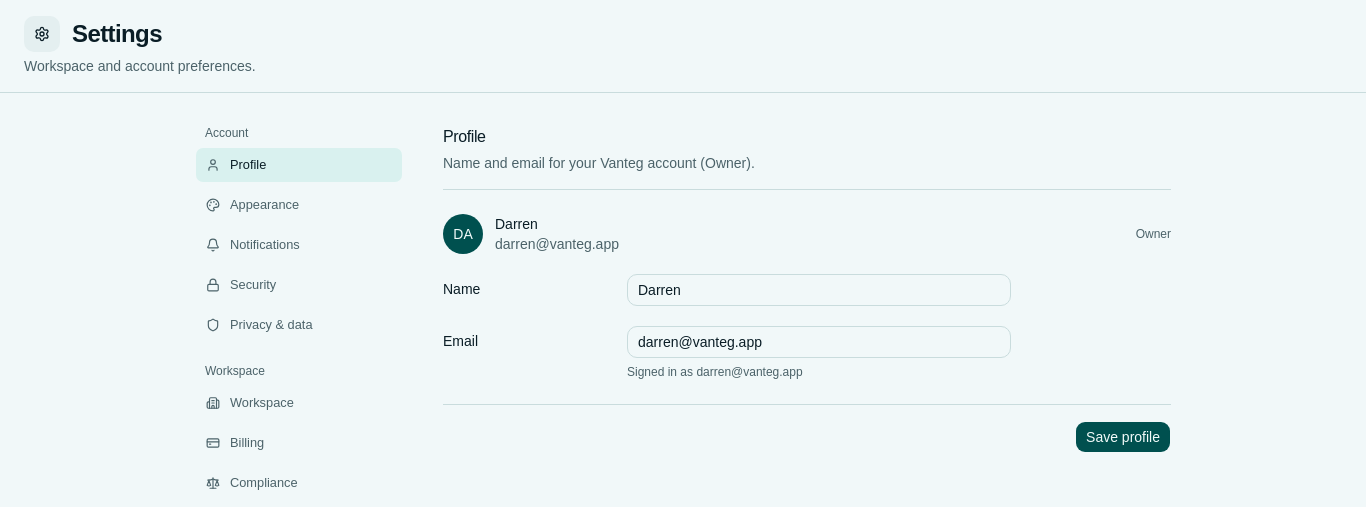
Test: SettingsPage › validates profile and saves with a success toast
The image size is (1366, 507).
Clear the field labelled "Name" at x=819, y=290, box [627, 274, 1011, 306]
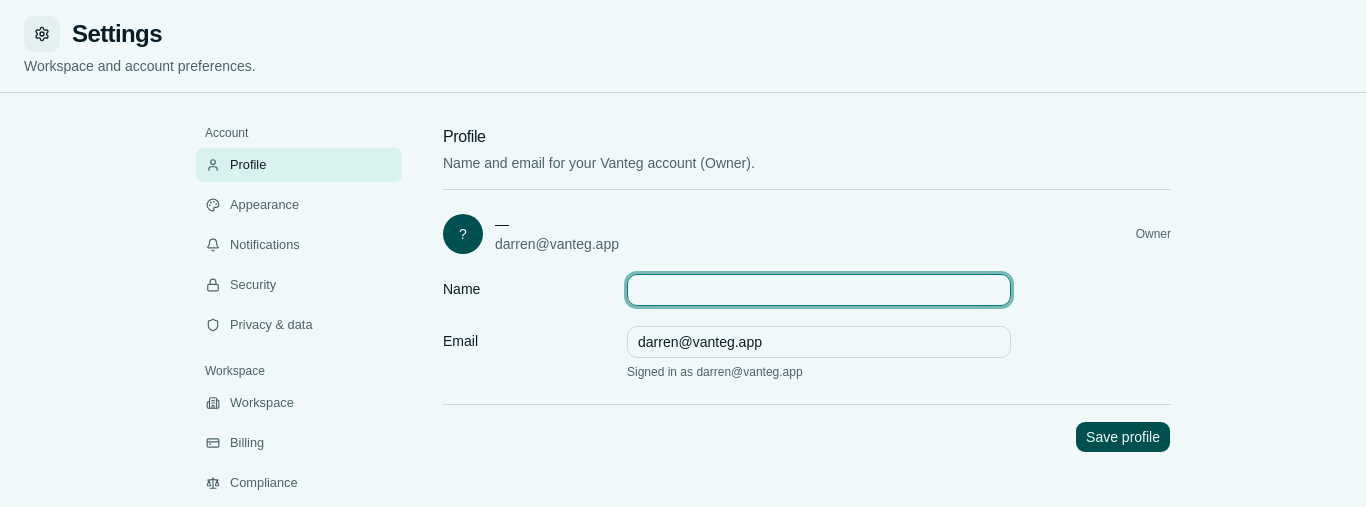
Click the button "Save profile" at x=1123, y=437, box [1075, 421, 1171, 453]
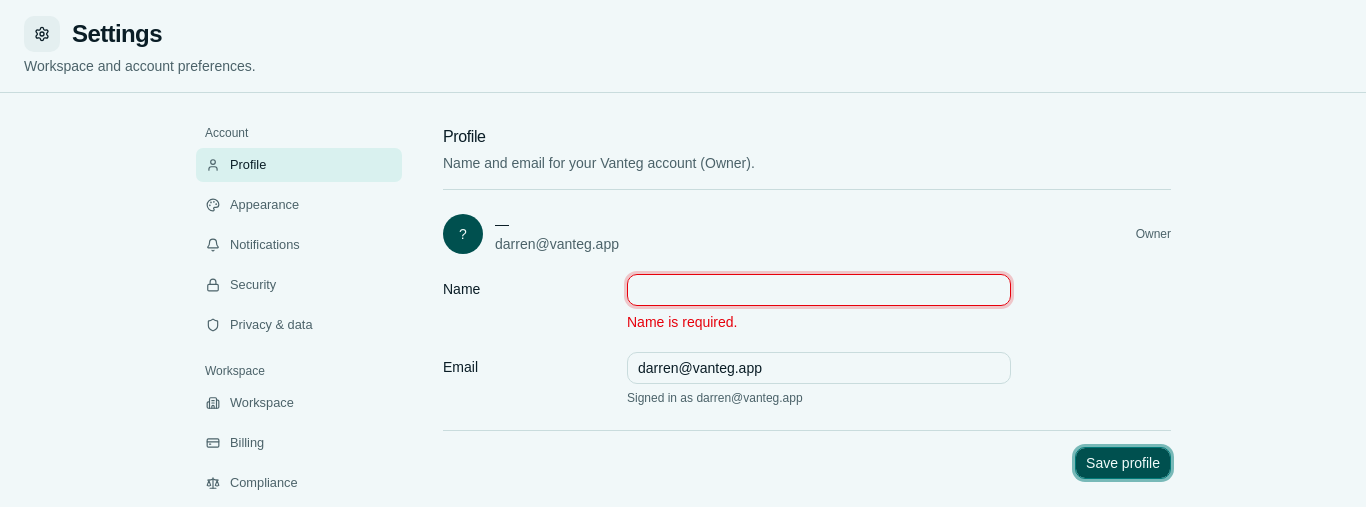
Result: the message reads "Name is required." at [627, 314, 738, 330]
Type "Ada Lovelace" into the field labelled "Name" at x=819, y=290, box [627, 274, 1011, 306]
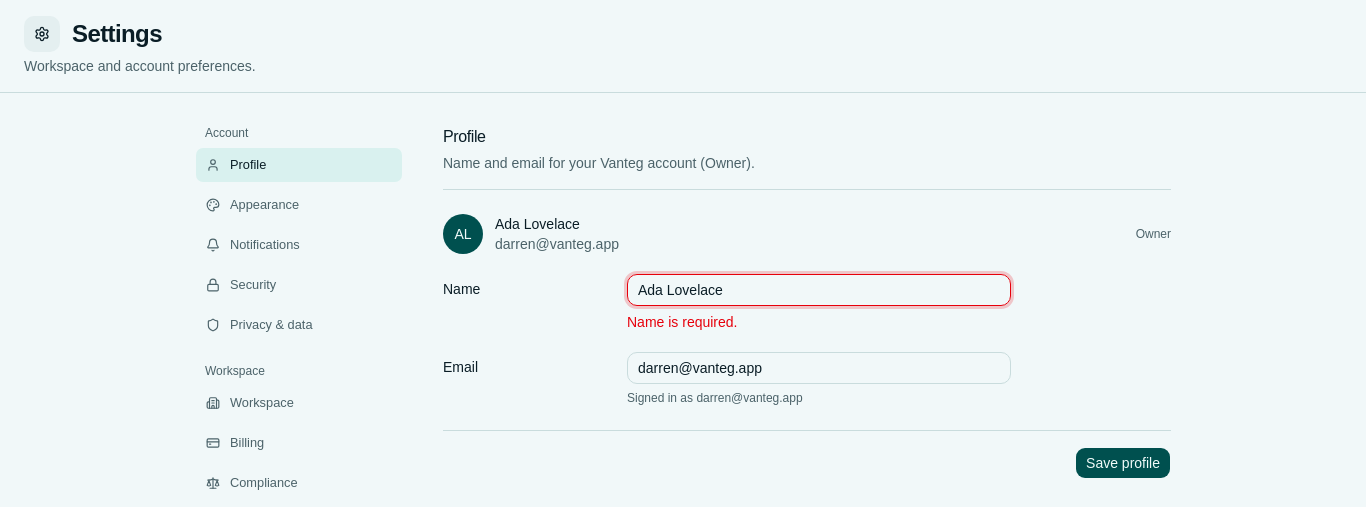
Replace the text in the field labelled "Email" with "ada@vanteg.app" at x=819, y=368, box [627, 352, 1011, 384]
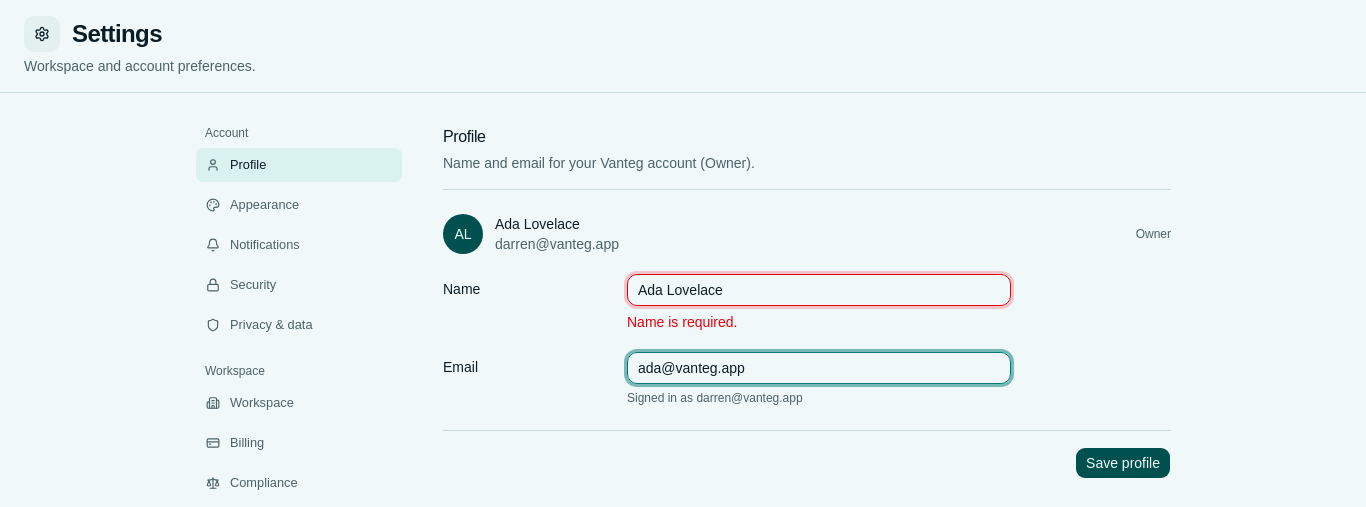
Click the button "Save profile" at x=1123, y=463, box [1075, 447, 1171, 479]
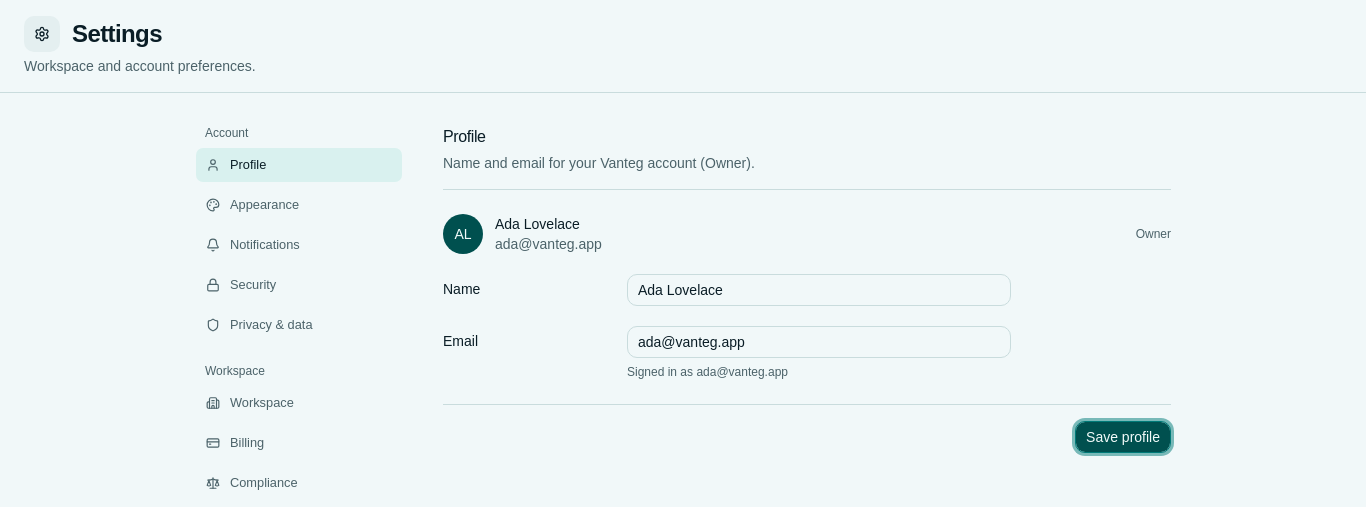
Result: the text "Signed in as ada@vanteg.app" is shown at [627, 365, 788, 379]
